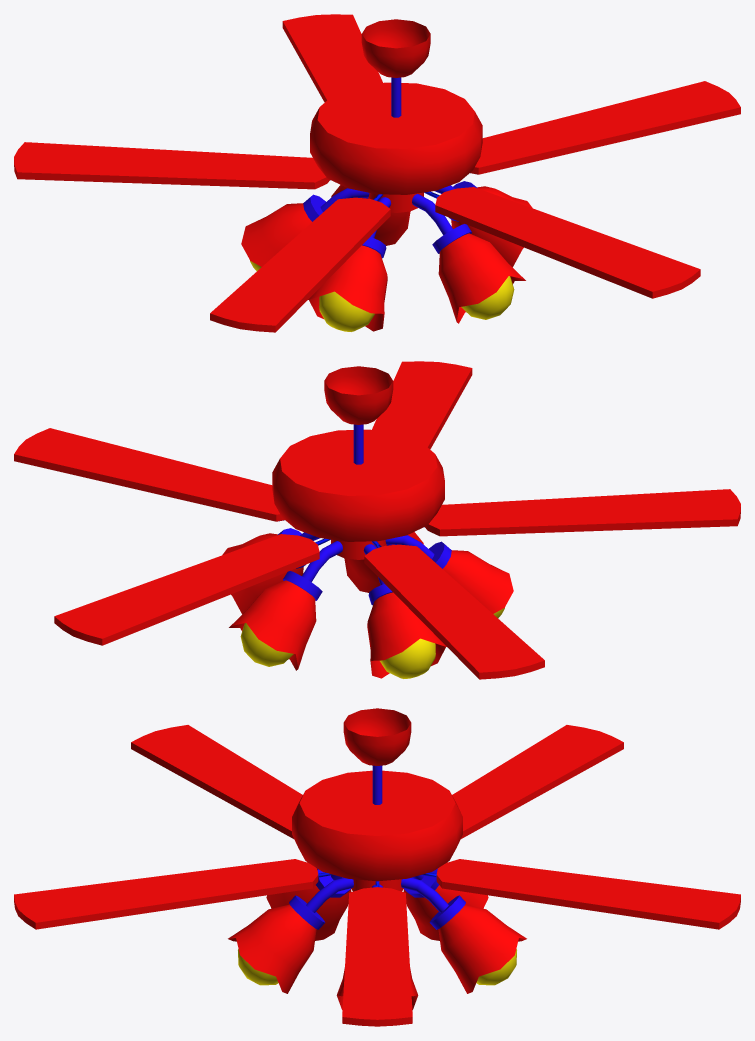
The model's file is Ceiling_fan.FBX.
The picture shows the model from 3 angles, top to bottom: view 1: azimuth 30°, elevation 25°; view 2: azimuth 150°, elevation 25°; view 3: azimuth 270°, elevation 25°; orthographic projection.
Parts seen in each view (by area): view 1: Object001, Cylinder002; view 2: Object001, Cylinder002; view 3: Object001, Cylinder002.
Part boxes in pixels (x1,y1,x2,y2): Object001: (14,14,740,332); Cylinder002: (241,19,532,331); Object001: (14,361,740,679); Cylinder002: (222,366,513,678); Object001: (14,725,740,1026); Cylinder002: (228,708,526,1010).
Bounding box in the file's own units: 1.4 × 1.46 × 0.5539.
